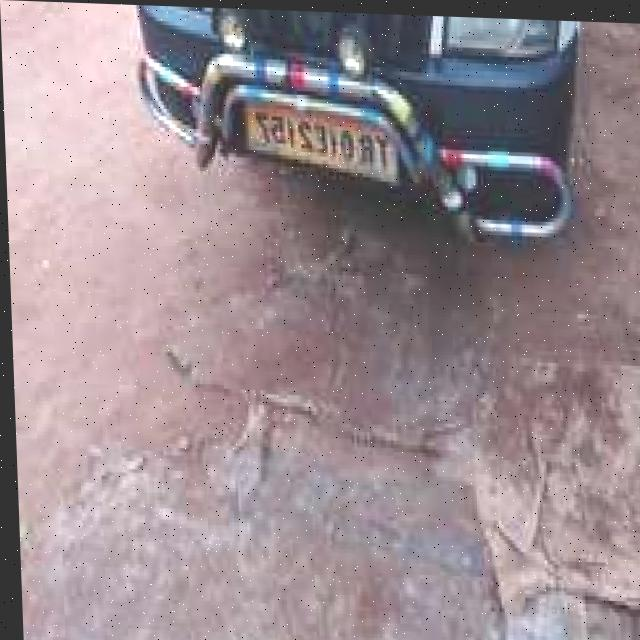plate: (241, 94, 403, 179)
